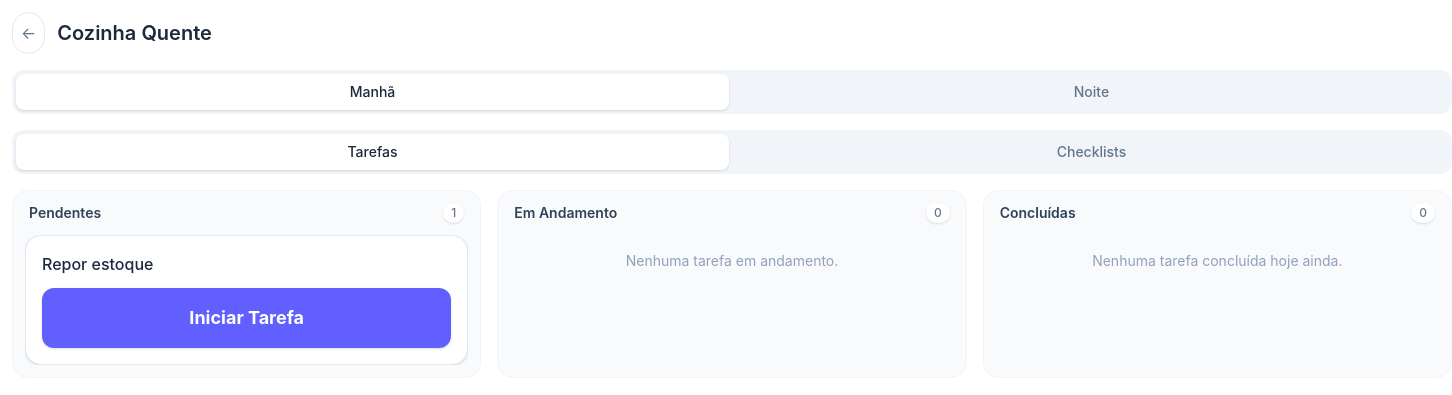
Test case: SectorView › tarefa de outro turno não aparece de jeito nenhum, mesmo hoje e no setor certo
The width and height of the screenshot is (1452, 395).
Expected: the text "Repor estoque" is shown, [42, 252, 153, 276]
Expected: the text "Fechar o caixa" is not shown
Click the button "Noite": click(1092, 92) [735, 74, 1448, 110]
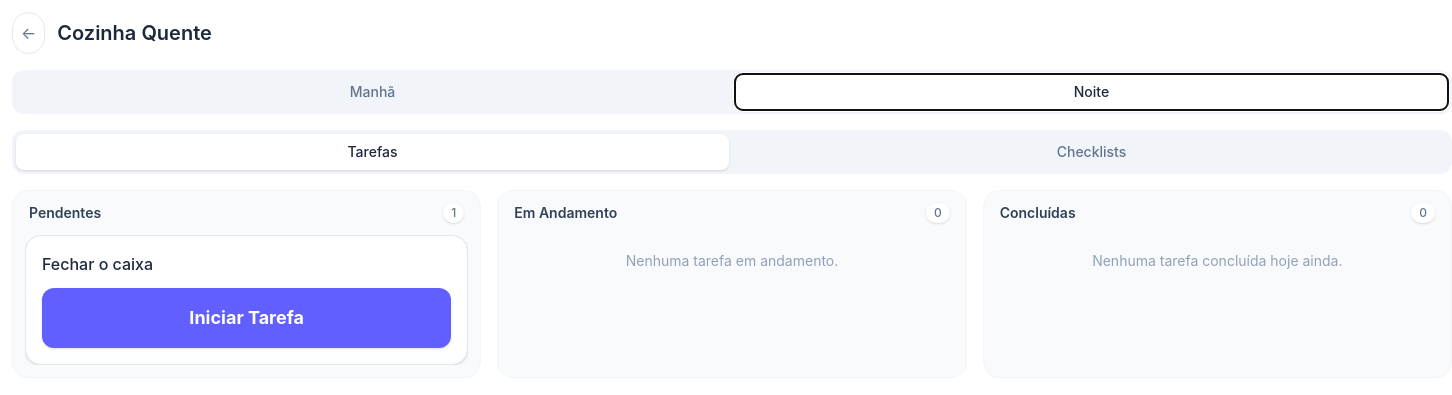
Expected: the text "Fechar o caixa" is shown, [42, 252, 153, 276]
Expected: the text "Repor estoque" is gone
